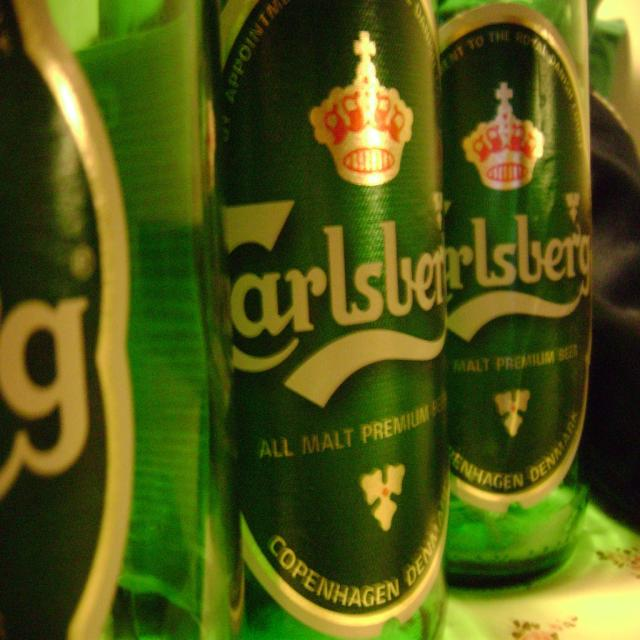carlsberg: (204, 2, 460, 633), (440, 2, 594, 510)
